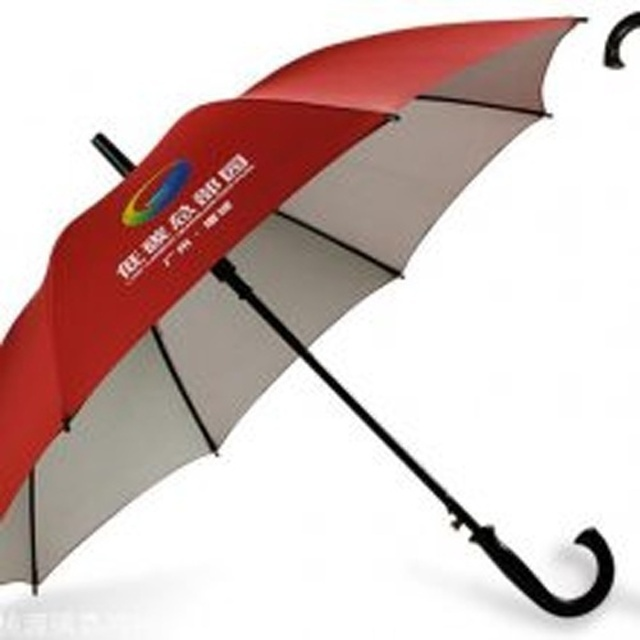umbrella: (1, 11, 624, 624)
